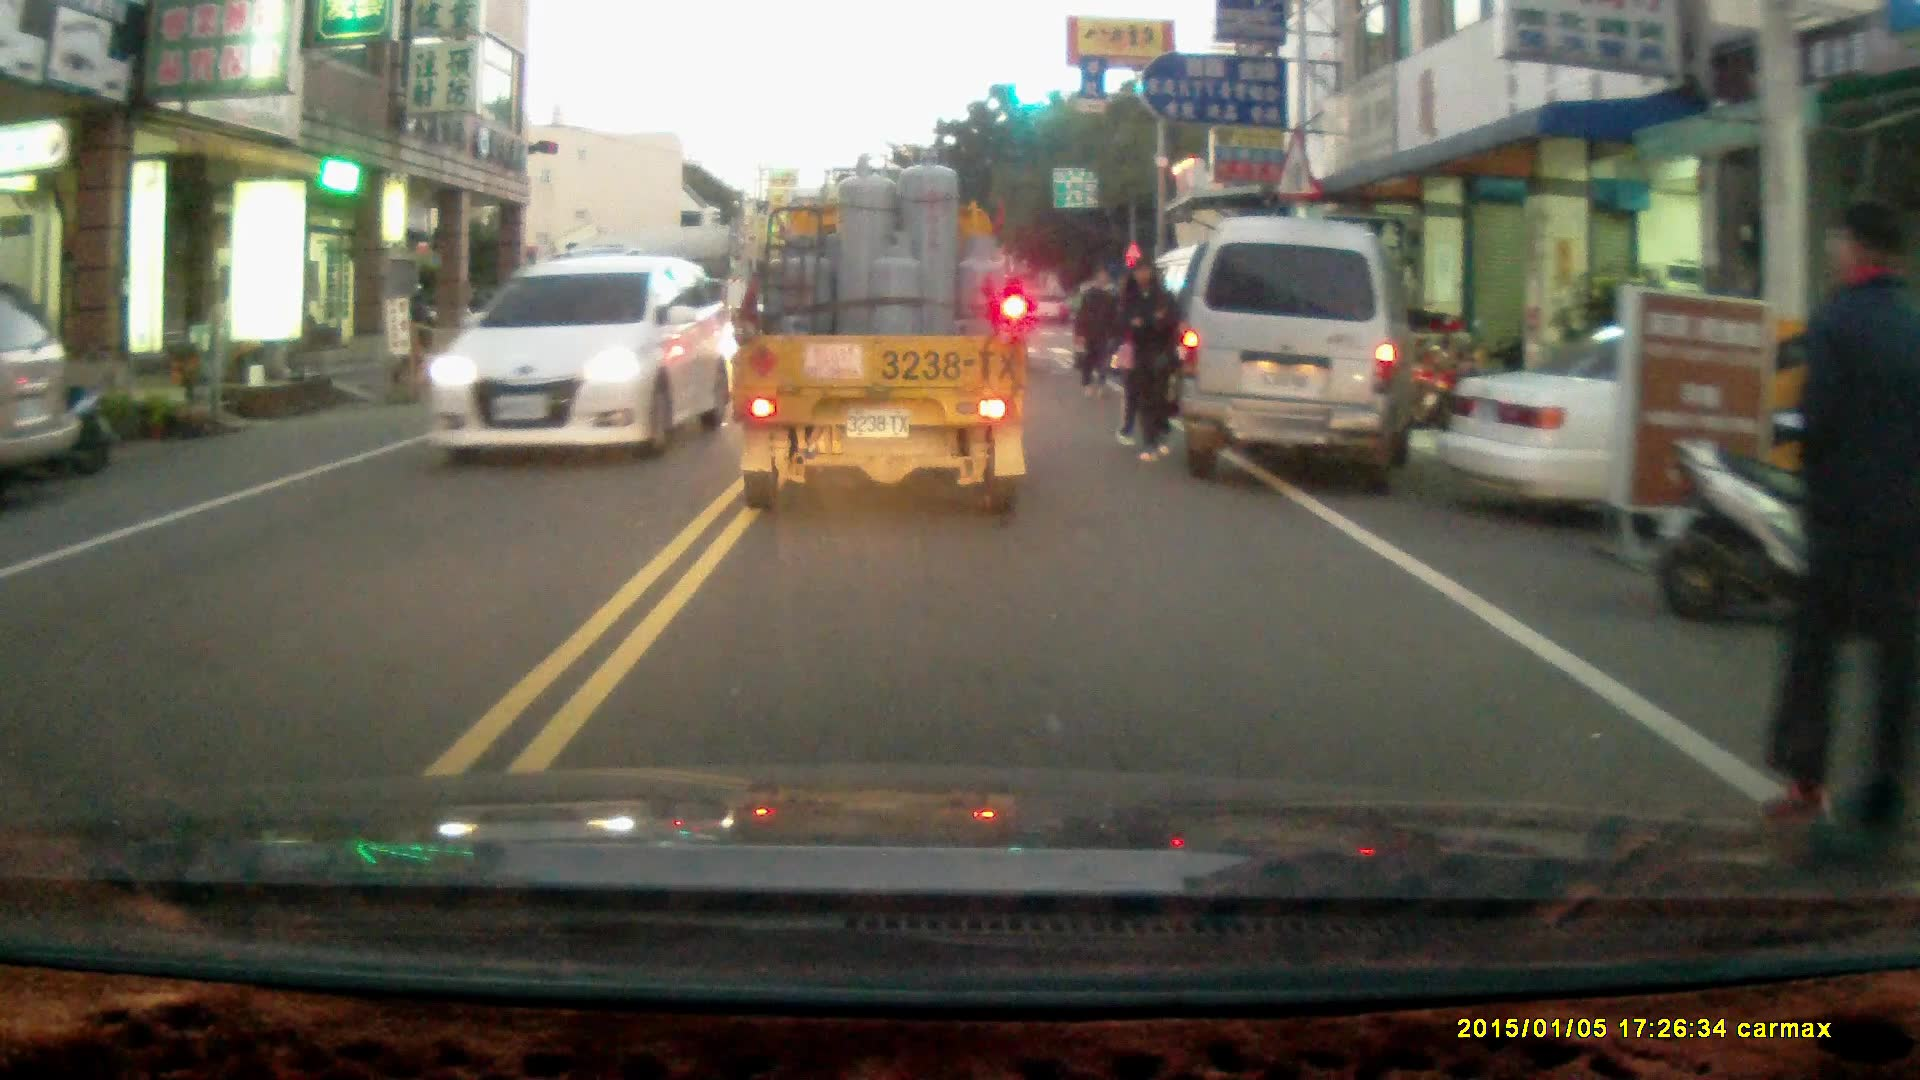pedestrian: (1756, 198, 1920, 847), (1116, 254, 1176, 461), (1073, 260, 1123, 397)
vehicle: (723, 149, 1029, 514), (1429, 317, 1912, 544), (1174, 210, 1420, 484), (428, 251, 718, 453), (1, 276, 87, 473)
